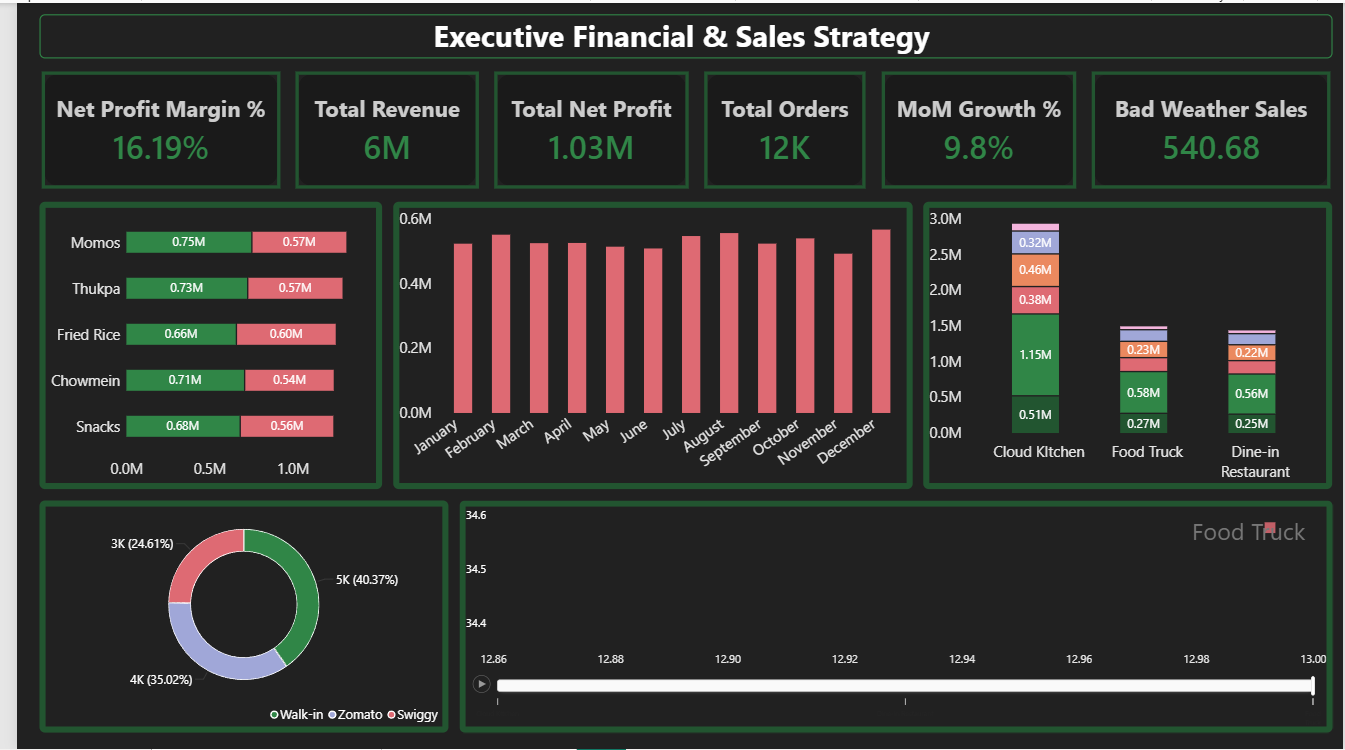

This screenshot's page, from the dashboard's own definition file:
{"tool":"powerbi","page":{"name":"Financial & Sales Stratergy","canvas":[1920,1080],"ordinal":0},"visuals":[{"type":"cardVisual","fields":{"Data":["Table1.Total Revenue"]},"box":[400,96,272,176],"z":0},{"type":"cardVisual","fields":{"Data":["Table1.Net Profit Margin %"]},"box":[32,96,352,176],"z":1000},{"type":"cardVisual","fields":{"Data":["Table1.Total Net Profit"]},"box":[688,96,288,176],"z":2000},{"type":"cardVisual","fields":{"Data":["Table1.Total Orders"]},"box":[992,96,240,176],"z":3000},{"type":"scatterChart","title":"Preparation Time & Delivery time by Location","fields":{"X":["Avg(Table1.Preparation Time (mins))"],"Y":["Avg(Table1.Delivery Time(mins))"],"Play":["Table1.Location"]},"box":[640,720,1264,336],"z":4000},{"type":"columnChart","fields":{"Category":["Table1.Location"],"Y":["Sum(Table1.Net_Profit)","Sum(Table1.Food_Cost)","Sum(Table1.Staff_Cost)","Sum(Table1.Commission_Fee)","Sum(Table1.Discount_Amount)","Sum(Table1.Packaging_Cost)"]},"box":[1312,288,592,416],"z":5000},{"type":"donutChart","fields":{"Y":["Table1.Total Orders"],"Category":["Table1.Platform"]},"box":[32,720,592,336],"z":6000},{"type":"barChart","fields":{"Category":["Table1.Food Item"],"Y":["Table1.Total Revenue"],"Series":["Table1.Food Category"]},"box":[32,288,496,416],"z":7000},{"type":"columnChart","fields":{"Category":["Table1.Order Date.Variation.Date Hierarchy.Month"],"Y":["Table1.Total Revenue","Table1.Net Profit Margin %"]},"box":[544,288,752,416],"z":8000},{"type":"textbox","box":[32,16,1872,64],"z":9000},{"type":"cardVisual","title":"MoM Revenue","fields":{"Data":["Table1.Month over Month Revenue Growth %"]},"box":[1248,96,288,176],"z":10000},{"type":"cardVisual","title":"MoM Revenue","fields":{"Data":["Table1.Bad Weather Sales Avg"]},"box":[1552,96,352,176],"z":11000}]}

Visuals, with their boxes in screenshot pixels (x1, y1, x2, y2), scaled from the page's 1920x1080 canvas onto the 1345x750 screenshot:
cardVisual - Table1.Total Revenue: detection(280, 67, 471, 189)
cardVisual - Table1.Net Profit Margin %: detection(22, 67, 269, 189)
cardVisual - Table1.Total Net Profit: detection(482, 67, 684, 189)
cardVisual - Table1.Total Orders: detection(695, 67, 863, 189)
"Preparation Time & Delivery time by Location" scatterChart: detection(448, 500, 1334, 733)
columnChart - Table1.Location x Sum(Table1.Net_Profit): detection(919, 200, 1334, 489)
donutChart - Table1.Total Orders x Table1.Platform: detection(22, 500, 437, 733)
barChart - Table1.Food Item x Table1.Total Revenue: detection(22, 200, 370, 489)
columnChart - Table1.Order Date.Variation.Date Hierarchy.Month x Table1.Total Revenue: detection(381, 200, 908, 489)
textbox: detection(22, 11, 1334, 56)
"MoM Revenue" cardVisual: detection(874, 67, 1076, 189)
"MoM Revenue" cardVisual: detection(1087, 67, 1334, 189)
